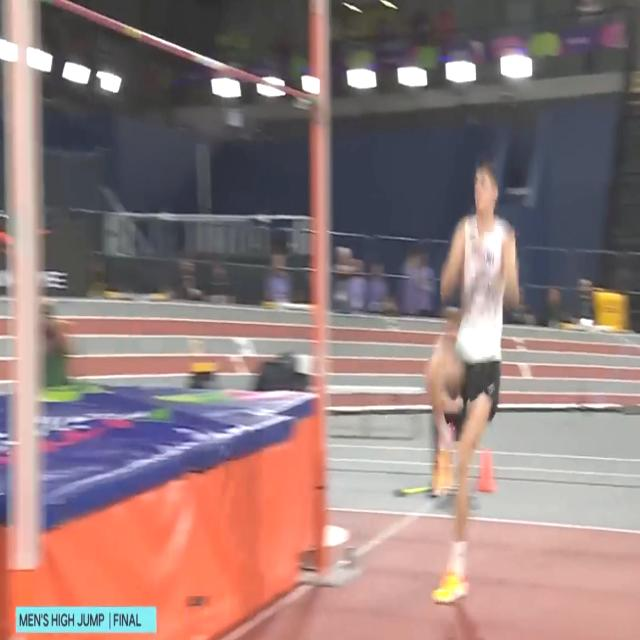jump: (426, 164, 521, 604)
